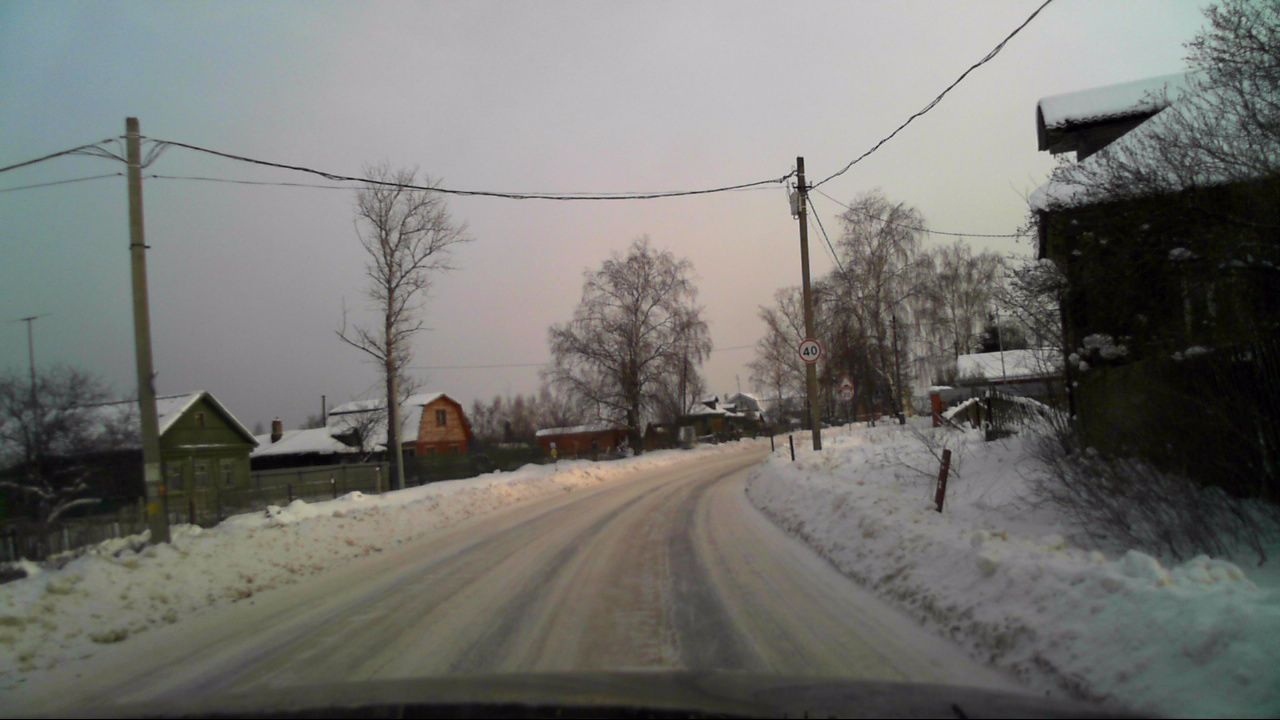speed_warning_40: (800, 339, 820, 363)
